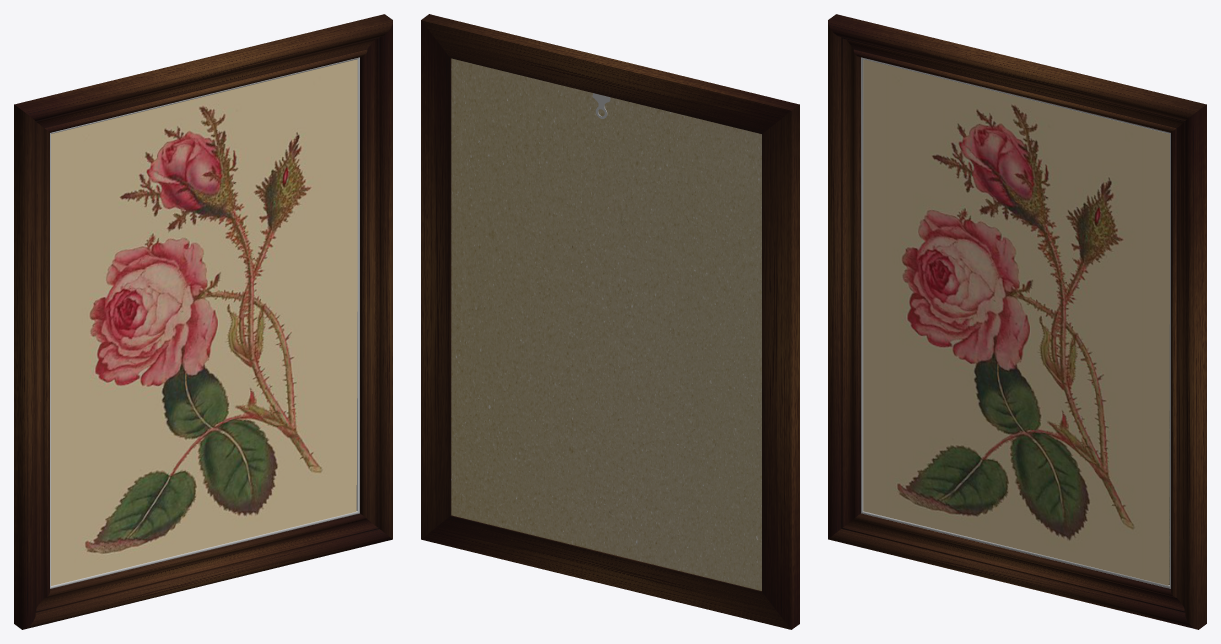
The model's file is flowerA.fbx.
3 renders of one model, left to right at view 1: azimuth 30°, elevation 25°; view 2: azimuth 150°, elevation 25°; view 3: azimuth 330°, elevation 25°, orthographic.
Visible parts, largest first — view 1: 戝; view 2: 戝; view 3: 戝.
Part boxes in pixels (box(x1,y1,x2,y2)): 戝: box(14, 14, 392, 629); 戝: box(421, 14, 799, 629); 戝: box(828, 14, 1206, 629).
Size of the model in its own units: 102 by 137 by 5.33.
